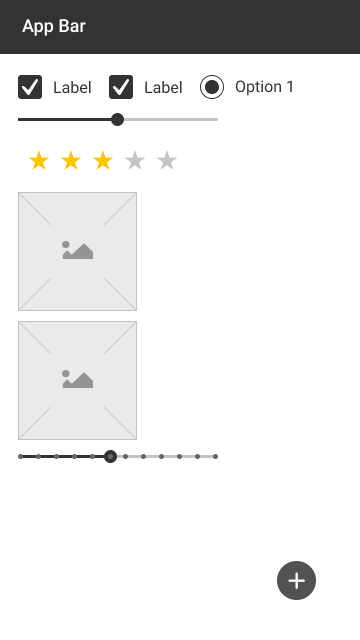checkBox: (107, 73, 183, 101), (16, 73, 92, 99)
floatingButton: (276, 559, 316, 600)
imageView: (16, 188, 139, 313), (18, 319, 139, 442)
radioButton: (198, 73, 295, 100)
ratingBar: (30, 148, 180, 174)
slider: (14, 450, 220, 463)
slider1: (14, 111, 221, 128)
toolbar: (2, 1, 359, 55)
